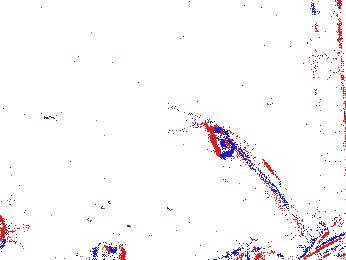glassfish: (201, 118, 316, 251)
